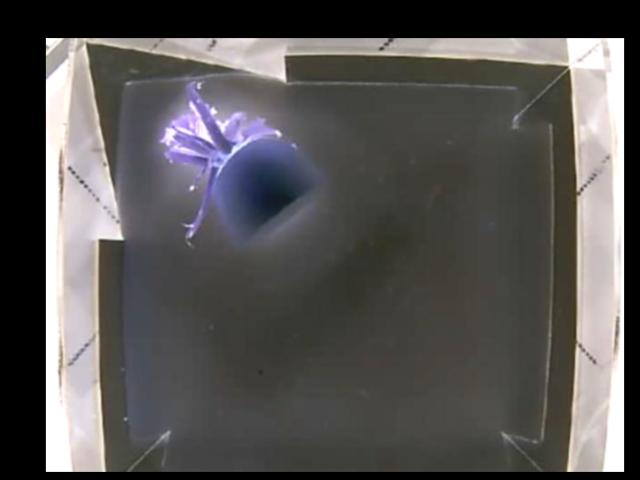Mooli: (163, 77, 324, 246)
